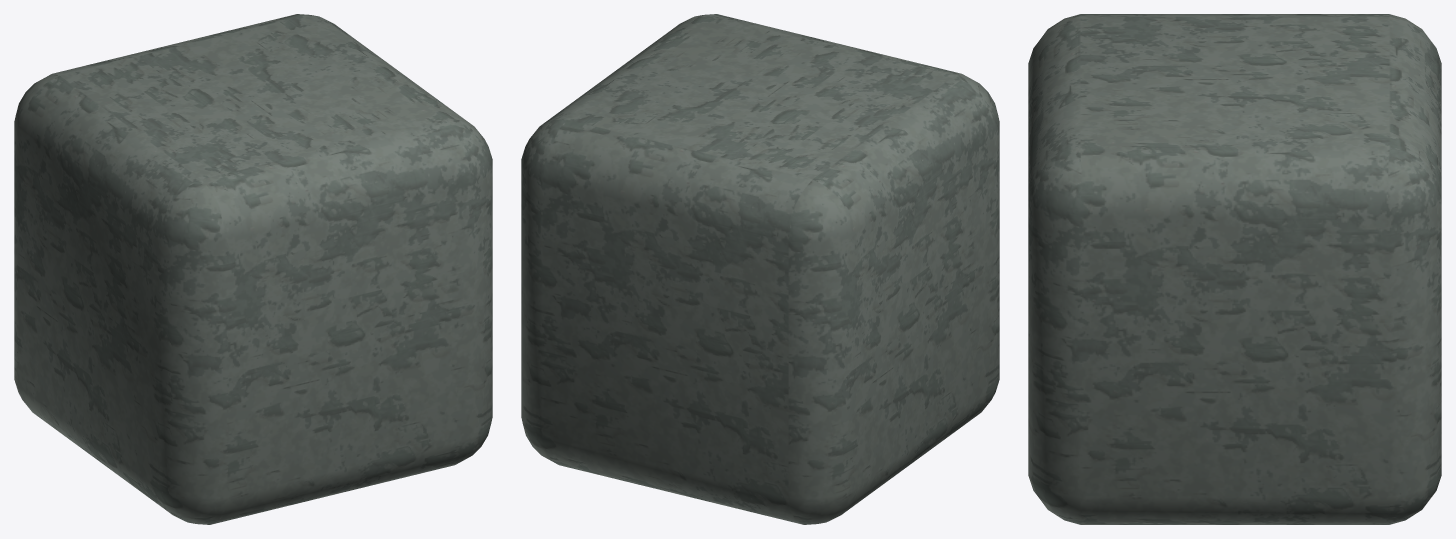
The model's file is BLOCK_STONE.glb.
3 renders of one model, left to right at view 1: azimuth 30°, elevation 25°; view 2: azimuth 150°, elevation 25°; view 3: azimuth 270°, elevation 25°, orthographic. The views are drawn at different scales.
Parts seen in each view (by area): view 1: [OBJ] Block Stone; view 2: [OBJ] Block Stone; view 3: [OBJ] Block Stone.
Part boxes in pixels (bbox=[...]): [OBJ] Block Stone: bbox=[14, 14, 492, 524]; [OBJ] Block Stone: bbox=[521, 14, 999, 524]; [OBJ] Block Stone: bbox=[1028, 14, 1441, 524].
Size of the model in its own units: 2 by 2 by 2.
Materials: 1 (1 with a texture image).
